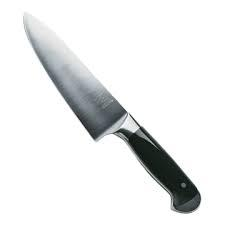Knife: (22, 10, 201, 213)
